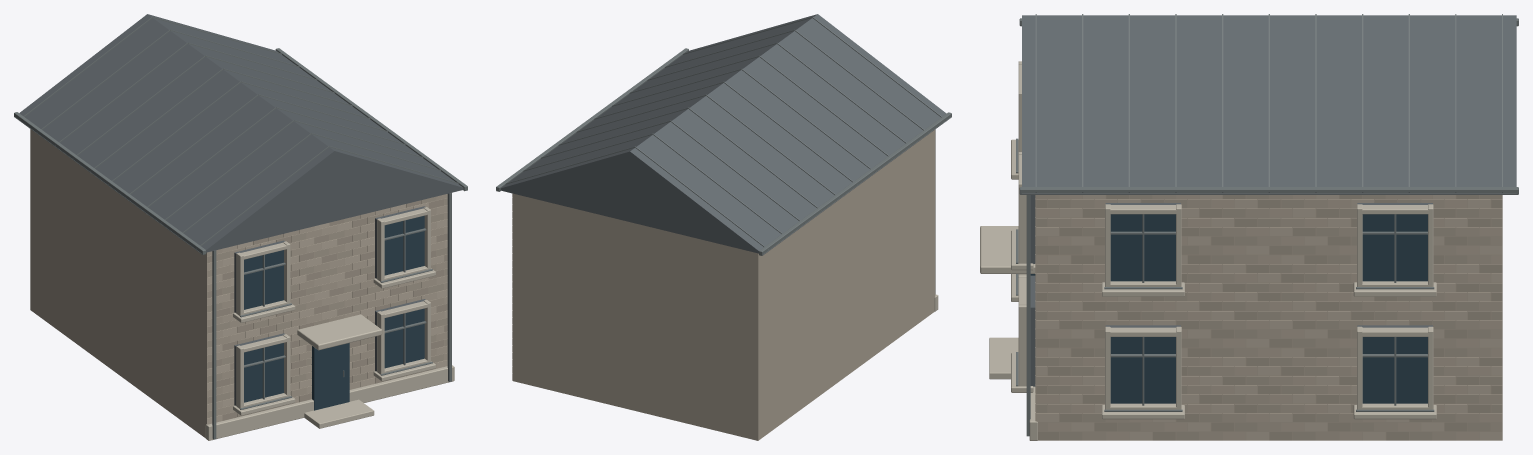
File: detached-house-detailed-extreme.glb
3 renders of one model, left to right at view 1: azimuth 30°, elevation 25°; view 2: azimuth 150°, elevation 25°; view 3: azimuth 270°, elevation 25°, orthographic. The views are drawn at different scales.
Visible parts, largest first — view 1: roof, wall, stone, frame, glass, brick_1, brick_0, brick_4, brick_2, brick_3; view 2: wall, roof, frame; view 3: roof, brick_3, brick_2, brick_1, brick_4, brick_0, stone, glass, wall, frame.
Boxes of the visible parts, x1,y1,x2,y2 form: roof: (14, 14, 463, 405); wall: (30, 129, 447, 437); stone: (205, 207, 454, 440); frame: (14, 17, 467, 439); glass: (244, 215, 424, 410); brick_1: (207, 196, 447, 417); brick_0: (207, 199, 447, 420); brick_4: (207, 202, 447, 424); brick_2: (207, 194, 447, 415); brick_3: (207, 205, 447, 412); wall: (512, 130, 935, 440); roof: (500, 14, 950, 254); frame: (496, 17, 951, 293); roof: (1022, 15, 1516, 386); brick_3: (1035, 195, 1502, 440); brick_2: (1035, 195, 1502, 440); brick_1: (1035, 195, 1502, 440); brick_4: (1035, 195, 1502, 440); brick_0: (1035, 195, 1502, 440); stone: (980, 61, 1436, 440); glass: (1030, 214, 1427, 403); wall: (1036, 195, 1502, 440); frame: (1016, 14, 1518, 436).
Size of the model in its own units: 8.89 by 8.23 by 11.55.
